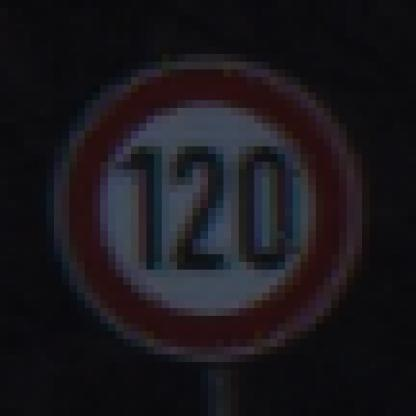Speed Limit 120: (62, 66, 356, 354)
